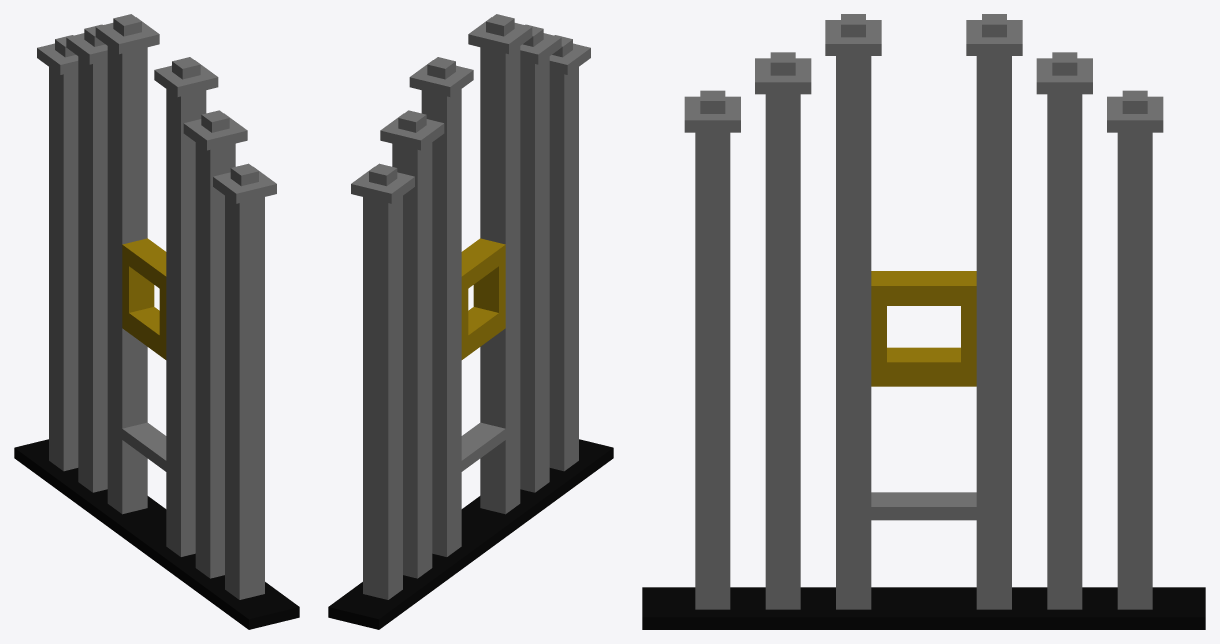
File: Gate_Textured.fbx
3 views of the same model, side by side, from view 1: azimuth 30°, elevation 25°; view 2: azimuth 150°, elevation 25°; view 3: azimuth 270°, elevation 25° (orthographic). The views are drawn at different scales.
Parts seen in each view (by area): view 1: pasted__pasted__pasted__pasted__pCube1 (×2), pasted__pasted__pCube1, pasted__pasted__pasted__pCube1, pasted__pCube1, pCube1, pasted__pCube2, pCube2; view 2: pasted__pasted__pasted__pasted__pCube1 (×2), pasted__pasted__pasted__pCube1, pasted__pasted__pCube1, pCube1, pasted__pCube1, pCube2, pasted__pCube2; view 3: pasted__pasted__pasted__pasted__pCube1 (×2), pasted__pasted__pCube1, pasted__pasted__pasted__pCube1, pasted__pCube1, pCube1, pCube2, pasted__pCube2.
Boxes of the visible parts, x1,y1,x2,y2 form: pasted__pasted__pasted__pasted__pCube1 (×2): [183, 110, 276, 599]; pasted__pasted__pCube1: [95, 14, 166, 514]; pasted__pasted__pasted__pCube1: [144, 57, 218, 556]; pasted__pCube1: [66, 24, 107, 492]; pCube1: [37, 35, 78, 471]; pasted__pCube2: [131, 525, 299, 629]; pCube2: [14, 439, 166, 543]; pasted__pasted__pasted__pasted__pCube1 (×2): [520, 24, 590, 492]; pasted__pasted__pasted__pCube1: [461, 14, 532, 514]; pasted__pasted__pCube1: [409, 57, 483, 556]; pCube1: [351, 163, 414, 599]; pasted__pCube1: [380, 110, 444, 578]; pCube2: [328, 525, 496, 629]; pasted__pCube2: [461, 439, 613, 543]; pasted__pasted__pasted__pasted__pCube1 (×2): [684, 52, 811, 609]; pasted__pasted__pCube1: [924, 14, 1022, 609]; pasted__pasted__pasted__pCube1: [825, 14, 923, 609]; pasted__pCube1: [1036, 52, 1092, 609]; pCube1: [1107, 90, 1163, 609]; pCube2: [924, 587, 1205, 629]; pasted__pCube2: [642, 587, 923, 629].
Bounding box in the file's own units: 1 × 9.34 × 8.
